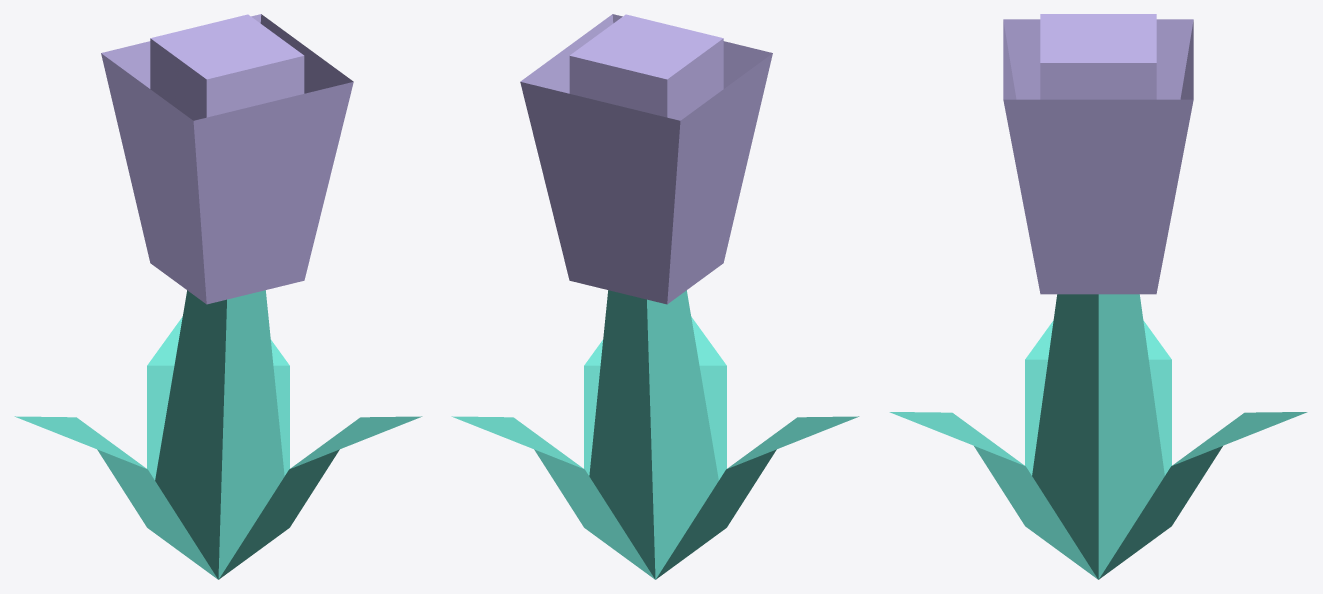
File: kn_flower_purpleA.glb
The picture shows the model from 3 angles, left to right: view 1: azimuth 30°, elevation 25°; view 2: azimuth 150°, elevation 25°; view 3: azimuth 270°, elevation 25°; orthographic projection. The views are drawn at different scales.
Parts seen in each view (by area): view 1: flower_purpleA; view 2: flower_purpleA; view 3: flower_purpleA.
Part boxes in pixels (bbox=[...]): flower_purpleA: bbox=[14, 14, 422, 579]; flower_purpleA: bbox=[451, 14, 859, 579]; flower_purpleA: bbox=[889, 14, 1307, 579].
Size of the model in its own units: 0.1552 by 0.2365 by 0.1766.
